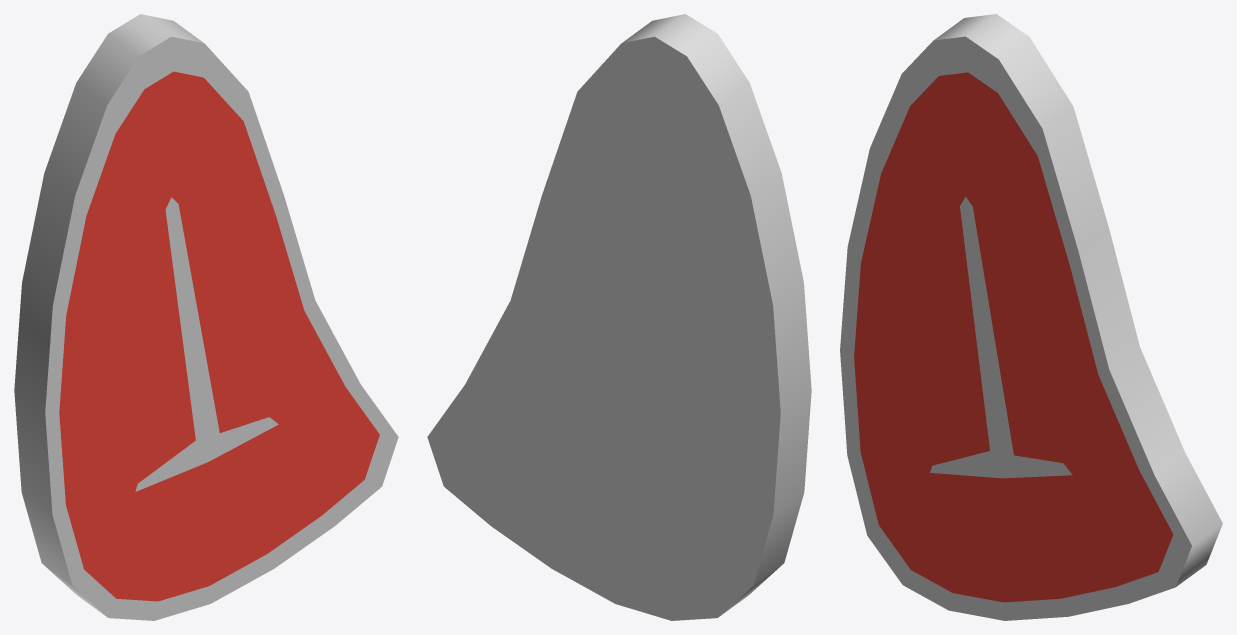
Rendered from 82997866-a438-4e86-abf2-ddc251832690.glb.
3 views of the same model, side by side, from view 1: azimuth 30°, elevation 25°; view 2: azimuth 150°, elevation 25°; view 3: azimuth 330°, elevation 25° (orthographic).
Visible parts, largest first — view 1: pCylinder60; view 2: pCylinder60; view 3: pCylinder60.
Boxes of the visible parts, <box> form: pCylinder60: <box>14,14,398,620</box>; pCylinder60: <box>427,14,811,620</box>; pCylinder60: <box>840,14,1222,620</box>.
Bounding box in the file's own units: 176 × 276 × 26.63.
